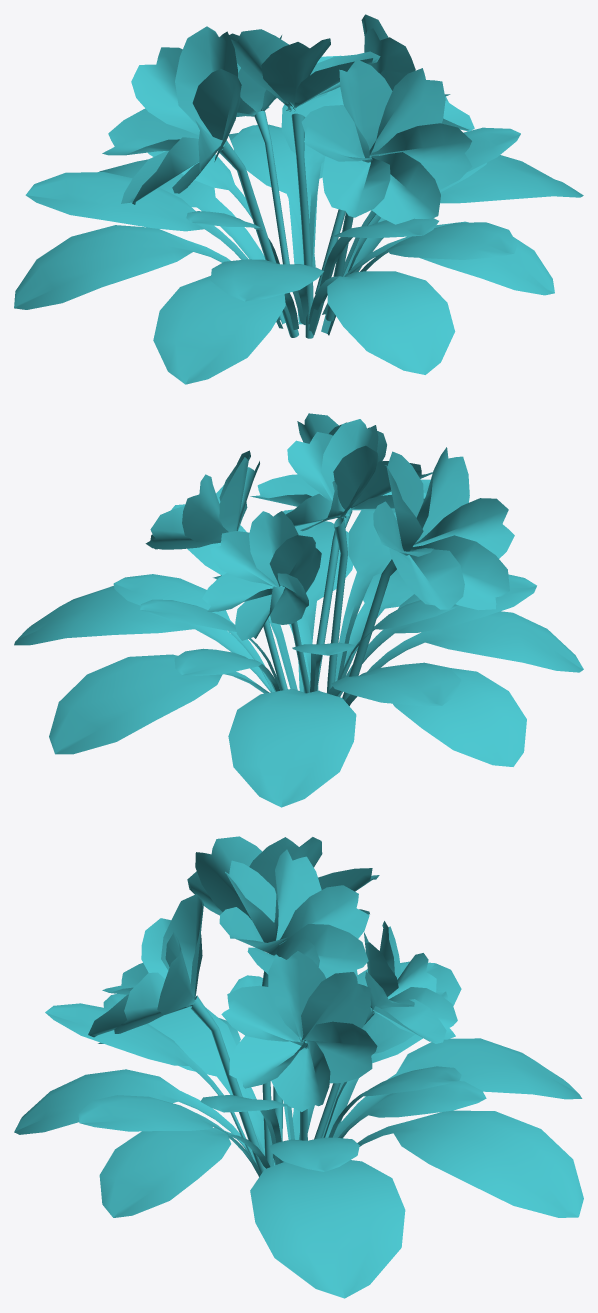
Rendered from _lanta_m.fbx.
3 renders of one model, top to bottom at view 1: azimuth 30°, elevation 25°; view 2: azimuth 150°, elevation 25°; view 3: azimuth 270°, elevation 25°, orthographic. The views are drawn at different scales.
Parts seen in each view (by area): view 1: petalos1; view 2: petalos1; view 3: petalos1.
Part boxes in pixels (x1,y1,x2,y2): petalos1: [14, 14, 583, 384]; petalos1: [14, 413, 583, 807]; petalos1: [14, 836, 583, 1298].
Size of the model in its own units: 4.05 by 2.33 by 3.62.
